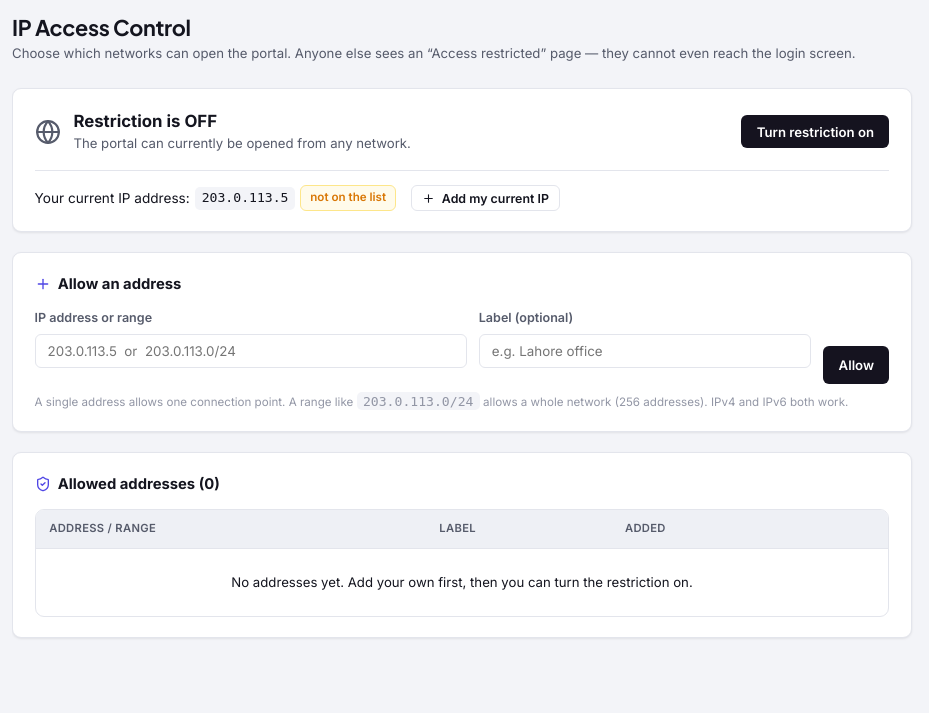
Test: AccessControl › shows the server's reason when an entry is refused
Expected: the text "Restriction is OFF" is shown, [73,111,217,131]
Type "nonsense" into the field labelled "IP address or range" at (251, 351), box [35,334,467,368]
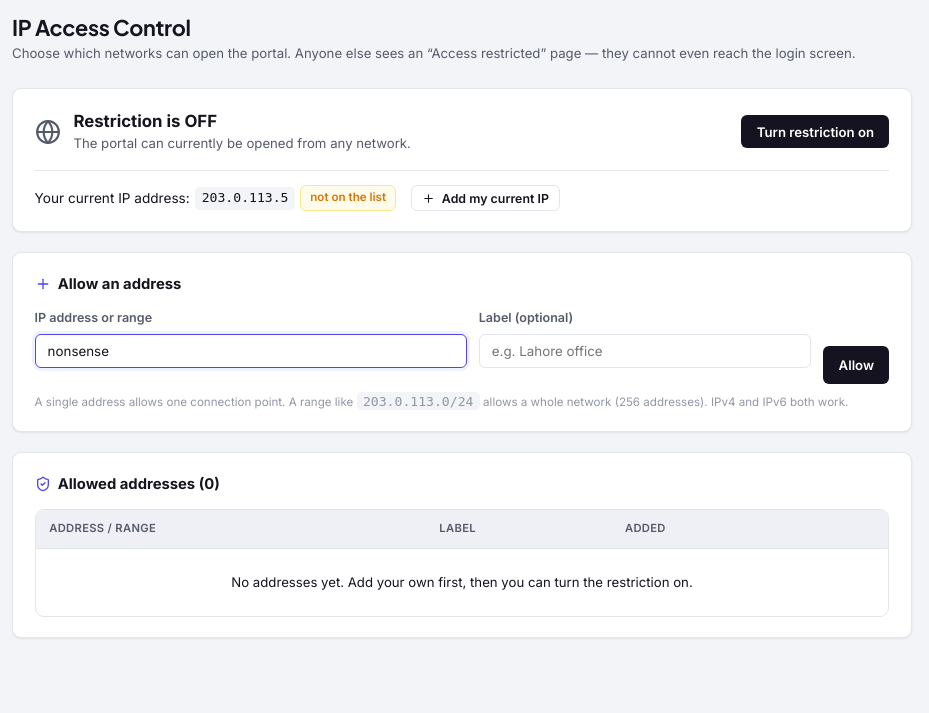
Click the button "Allow" at (856, 365), box [823,346,889,384]
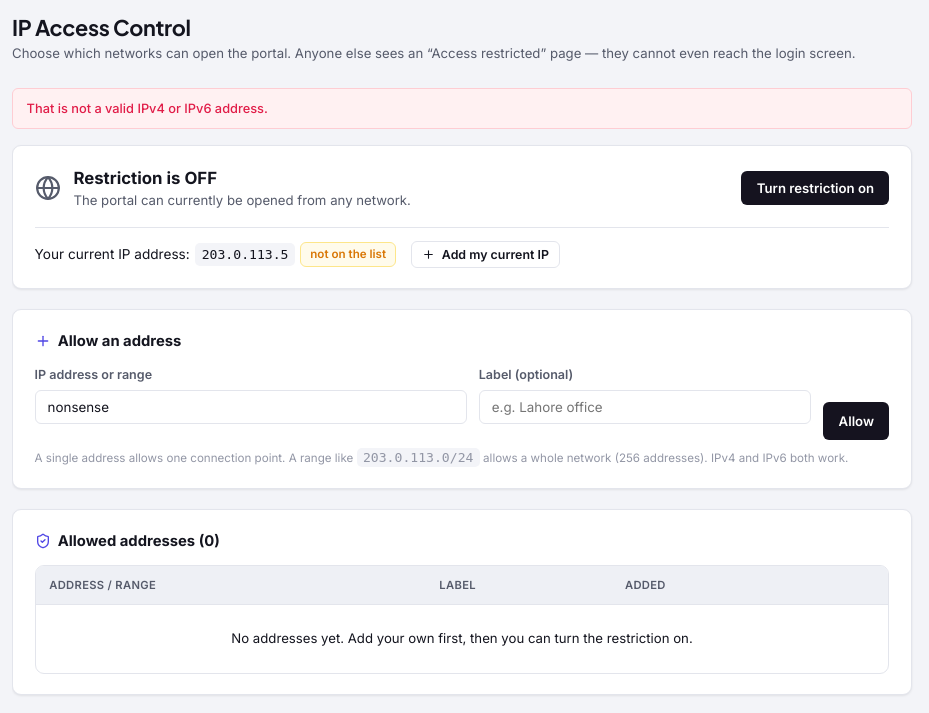
Result: the message shows "not a valid IPv4 or IPv6" at [27,101,268,116]
